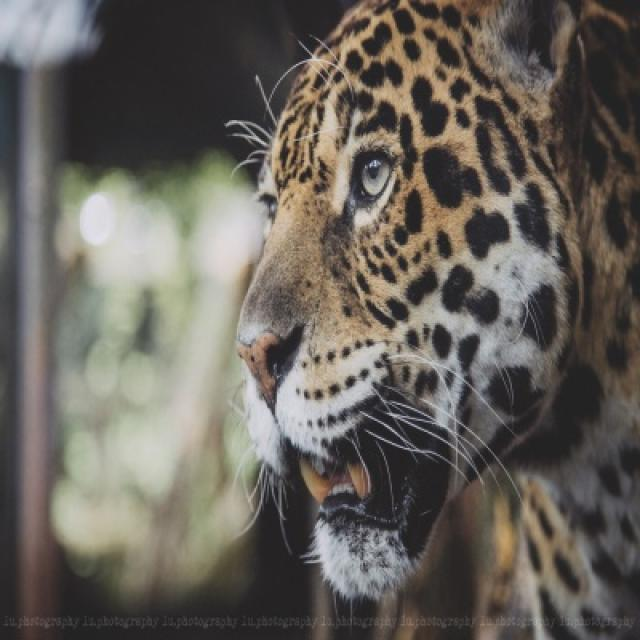Jaguar: (234, 0, 638, 638)
